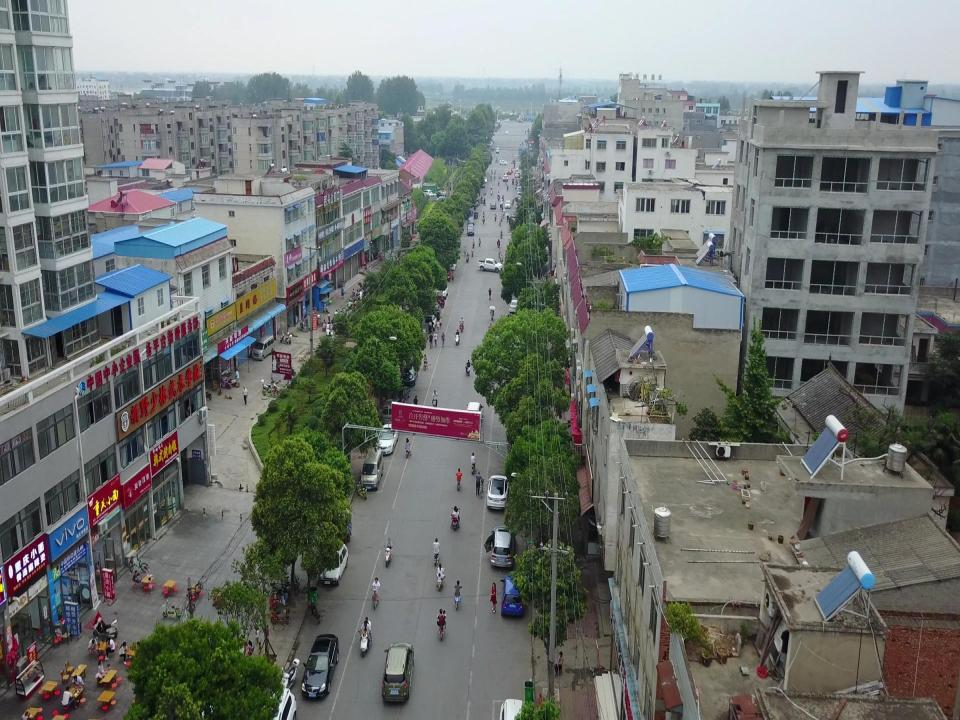car: (301, 632, 339, 700), (380, 642, 414, 702), (483, 526, 516, 570), (321, 541, 347, 587), (500, 575, 524, 617), (264, 689, 296, 720), (487, 475, 509, 511), (377, 425, 399, 455), (500, 699, 528, 720), (466, 401, 484, 426), (401, 363, 417, 386), (393, 385, 410, 404), (423, 314, 437, 329), (436, 282, 448, 299), (279, 330, 292, 345), (431, 304, 441, 320), (509, 300, 519, 314), (443, 267, 451, 282), (448, 257, 456, 271), (499, 158, 507, 165), (516, 191, 524, 198), (517, 196, 525, 203), (504, 200, 511, 208), (490, 200, 496, 209), (474, 197, 480, 206), (502, 174, 509, 181), (482, 176, 488, 183), (517, 186, 523, 193), (468, 217, 474, 224), (506, 169, 512, 175), (508, 166, 512, 172), (481, 183, 485, 188), (505, 130, 509, 134), (515, 173, 519, 177)
truck: (477, 256, 503, 272)
van: (359, 448, 384, 490), (251, 334, 275, 360), (383, 399, 397, 423), (466, 224, 474, 236), (496, 146, 499, 153)
